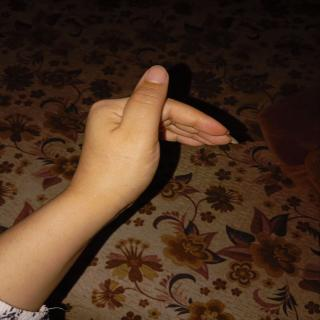KHAA: (63, 58, 250, 225)
